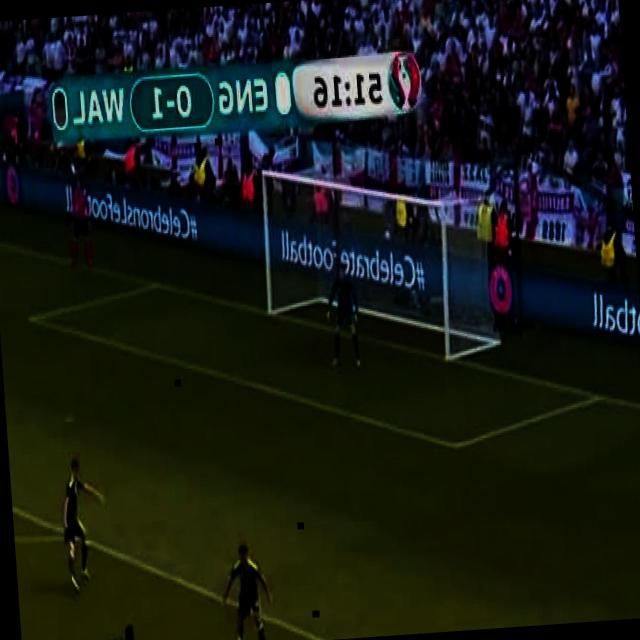player-white: (59, 455, 111, 593), (221, 541, 277, 640), (323, 264, 362, 370), (65, 181, 94, 273), (101, 618, 149, 640)
